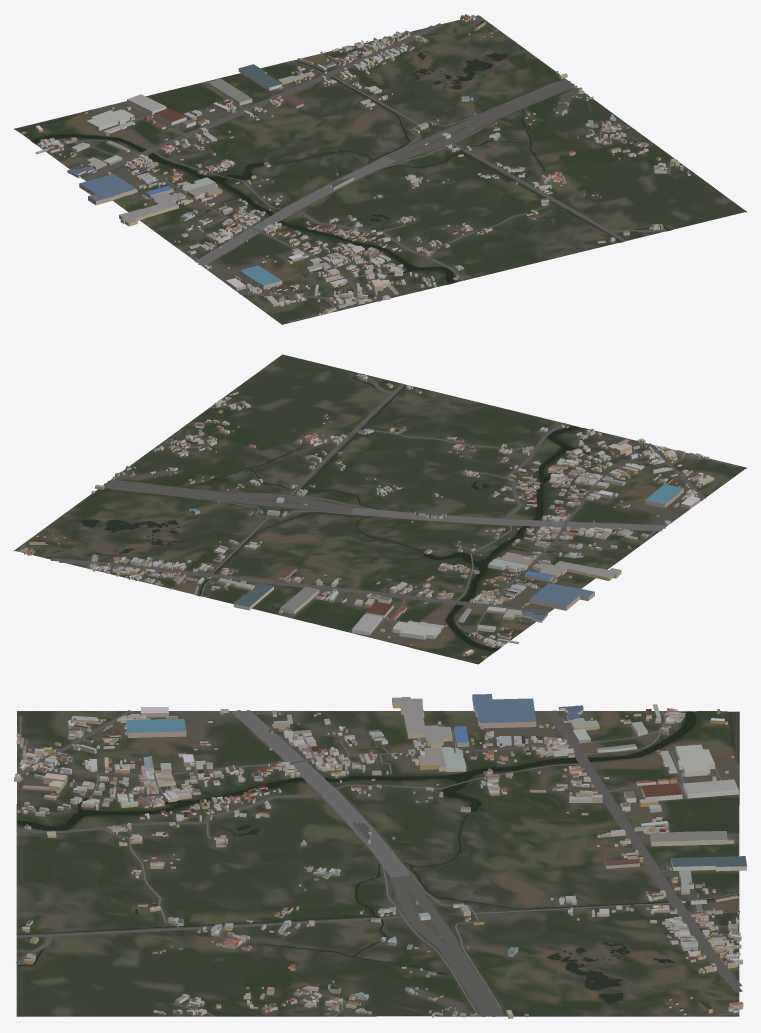
3 renders of one model, top to bottom at view 1: azimuth 30°, elevation 25°; view 2: azimuth 150°, elevation 25°; view 3: azimuth 270°, elevation 25°, orthographic. The views are drawn at different scales.
Visible parts, largest first — view 1: ground, buildings, roads, water; view 2: ground, buildings, roads, water; view 3: ground, buildings, roads, water.
Boxes of the visible parts, x1,y1,x2,y2 form: ground: (14,15,746,324); buildings: (21,14,690,315); roads: (42,17,673,321); water: (15,52,668,284); ground: (14,354,746,664); buildings: (20,373,714,658); roads: (18,374,737,643); water: (80,373,600,663); ground: (16,711,739,1016); buildings: (14,694,746,1018); roads: (15,710,742,1016); water: (16,711,739,1003).
Bounding box in the file's own units: 1464 × 17.8 × 1421.
